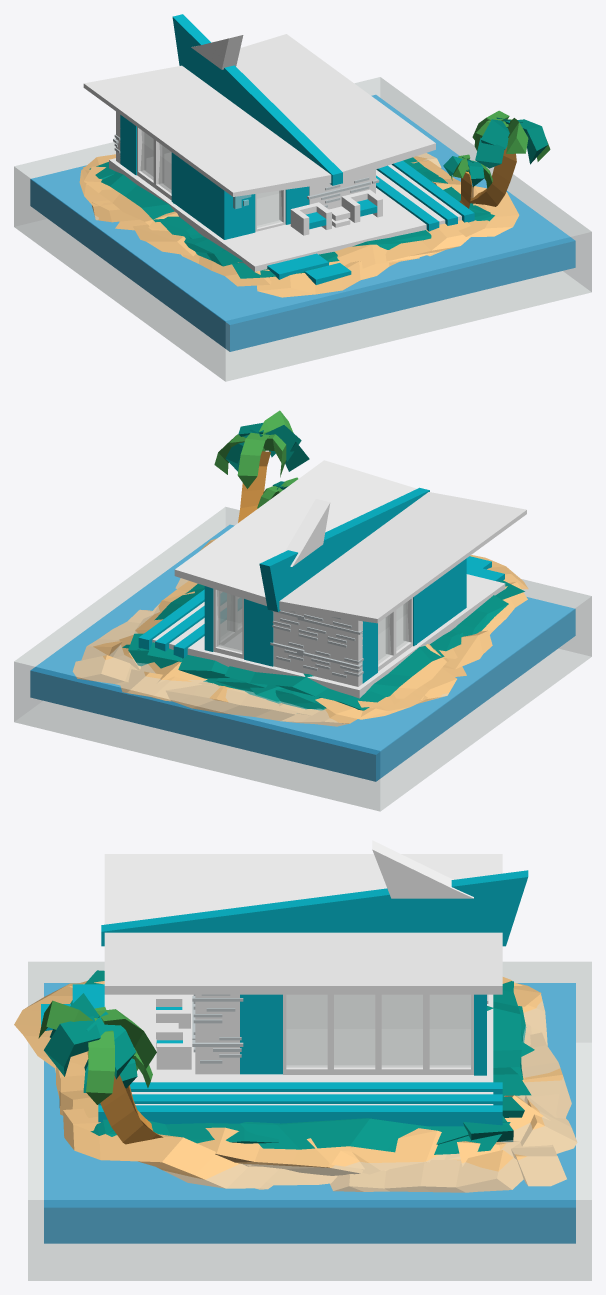
Rendered from seaside_villa.glb.
The picture shows the model from 3 angles, top to bottom: view 1: azimuth 30°, elevation 25°; view 2: azimuth 150°, elevation 25°; view 3: azimuth 270°, elevation 25°; orthographic projection. The views are drawn at different scales.
Parts seen in each view (by area): view 1: group570457973, group1074085332, group306629829, group557756164, group92470826, group982699386, group651121471, group496611918, group1081879696, group1607355216, group1487815543_2ff990, group2085741878 (+31 smaller); view 2: group570457973, group1074085332, group306629829, group557756164, group92470826, group982699386, group1114159483, group651121471, group1487815543_6d6323, group1657720556, group1974377919, group1588774327 (+28 smaller); view 3: group570457973, group1074085332, group557756164, group92470826, group306629829, group982699386, group1923574945, group1607355216, group788639312, group644318140, group1114159483, group136081623 (+30 smaller).
Boxes of the visible parts, left/top/right/bottom form: group570457973: left=14, top=77, right=591, bottom=381; group1074085332: left=30, top=95, right=575, bottom=351; group306629829: left=83, top=65, right=331, bottom=196; group557756164: left=236, top=34, right=435, bottom=179; group92470826: left=109, top=152, right=461, bottom=271; group982699386: left=172, top=14, right=342, bottom=185; group651121471: left=171, top=152, right=232, bottom=239; group496611918: left=257, top=261, right=399, bottom=297; group1081879696: left=385, top=220, right=470, bottom=261; group1607355216: left=458, top=185, right=519, bottom=236; group1487815543_2ff990: left=480, top=117, right=547, bottom=164; group2085741878: left=101, top=171, right=174, bottom=222; group570457973: left=14, top=507, right=591, bottom=811; group1074085332: left=30, top=524, right=575, bottom=781; group306629829: left=279, top=492, right=526, bottom=623; group557756164: left=174, top=460, right=416, bottom=605; group92470826: left=152, top=574, right=505, bottom=698; group982699386: left=259, top=487, right=429, bottom=611; group1114159483: left=73, top=655, right=298, bottom=720; group651121471: left=413, top=558, right=466, bottom=646; group1487815543_6d6323: left=214, top=410, right=293, bottom=488; group1657720556: left=120, top=669, right=375, bottom=726; group1974377919: left=225, top=666, right=385, bottom=710; group1588774327: left=315, top=668, right=456, bottom=719; group570457973: left=28, top=961, right=591, bottom=1280; group1074085332: left=44, top=983, right=575, bottom=1243; group557756164: left=104, top=932, right=502, bottom=994; group92470826: left=104, top=994, right=493, bottom=1105; group306629829: left=104, top=854, right=502, bottom=924; group982699386: left=101, top=870, right=528, bottom=946; group1923574945: left=98, top=1105, right=502, bottom=1126; group1607355216: left=63, top=1108, right=277, bottom=1188; group788639312: left=255, top=1150, right=523, bottom=1192; group644318140: left=240, top=1118, right=510, bottom=1154; group1114159483: left=511, top=1032, right=571, bottom=1186; group136081623: left=130, top=1082, right=502, bottom=1094.
Bounding box in the file's own units: 1.77 × 1 × 1.81.
